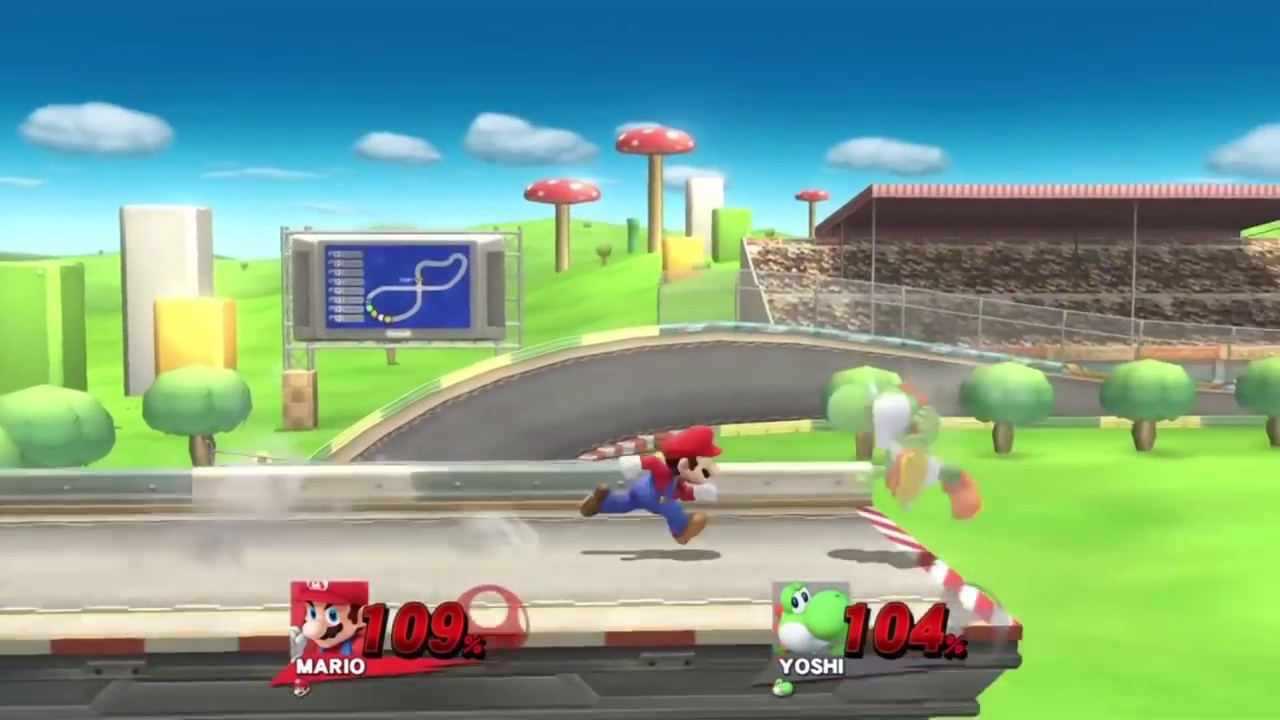Mario: (584, 428, 722, 552)
